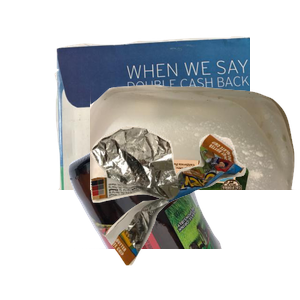glass: (66, 120, 300, 300)
paper: (52, 34, 292, 214)
plastic: (90, 82, 300, 262)
trash: (88, 123, 300, 300)
